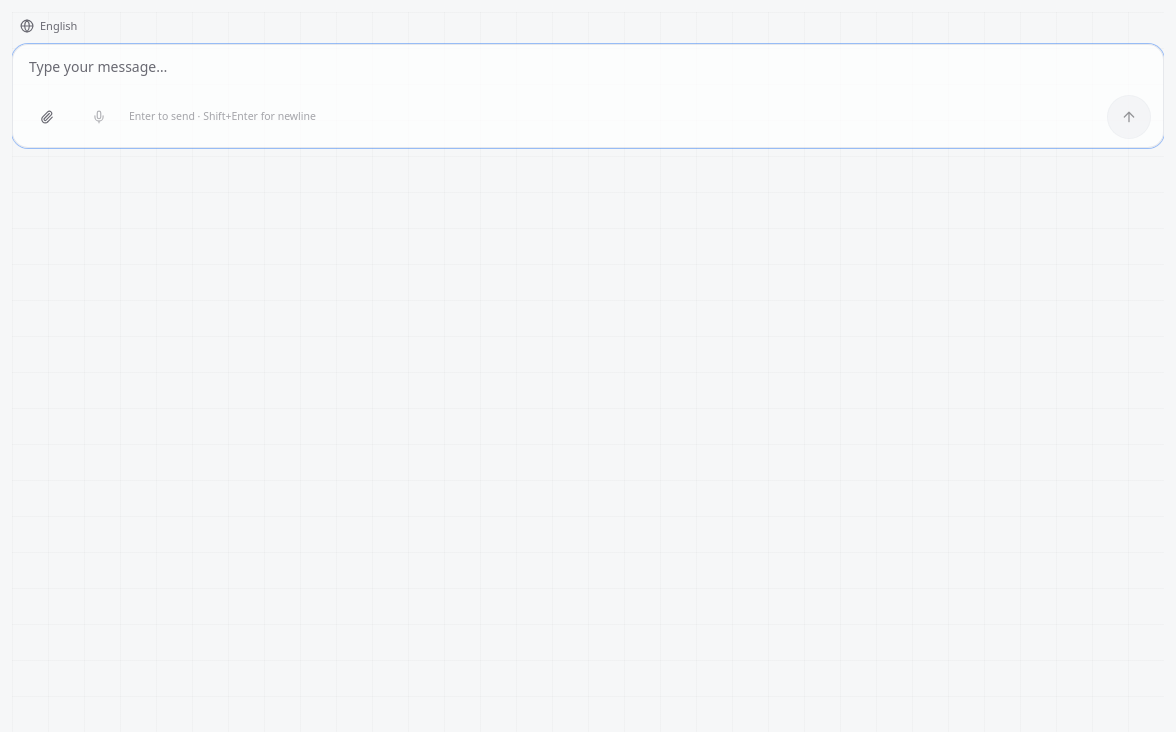
Test: webui i18n › renders the English composer and language switcher
Expected: the text box with placeholder "Type your message…" is shown, [13,45,1163,95]
Step 1. Click the button with aria-label "Change language" → coordinates (49, 26), box [12,12,85,40]
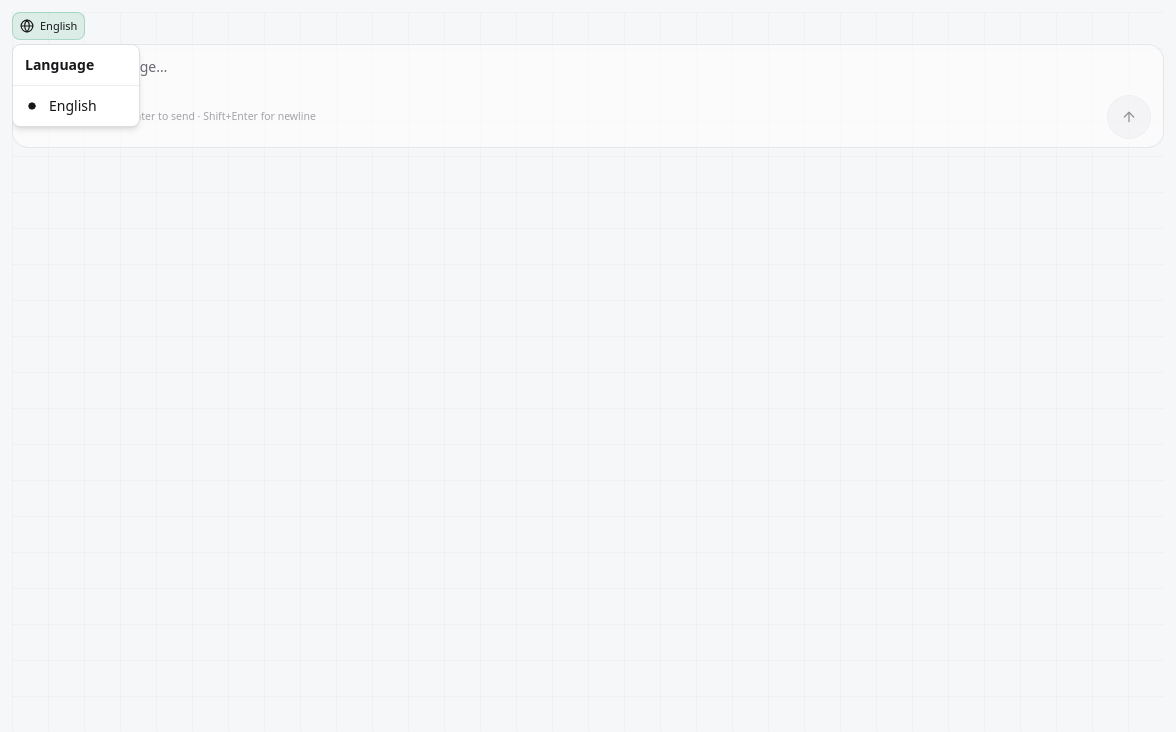
Expected: the menu item "English" is shown, [28,96,97,115]
